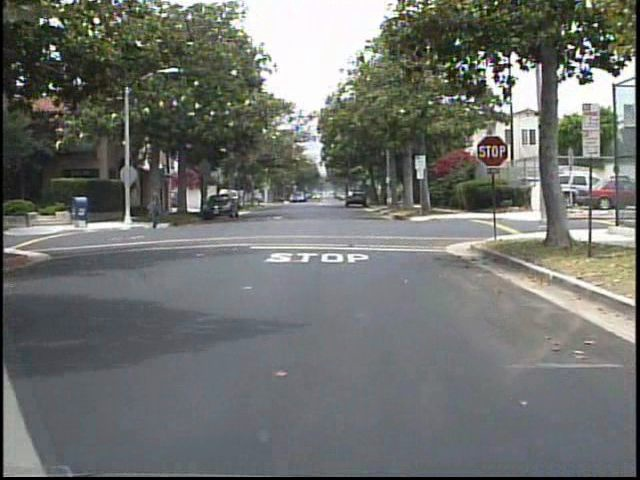person: (145, 180, 169, 233)
